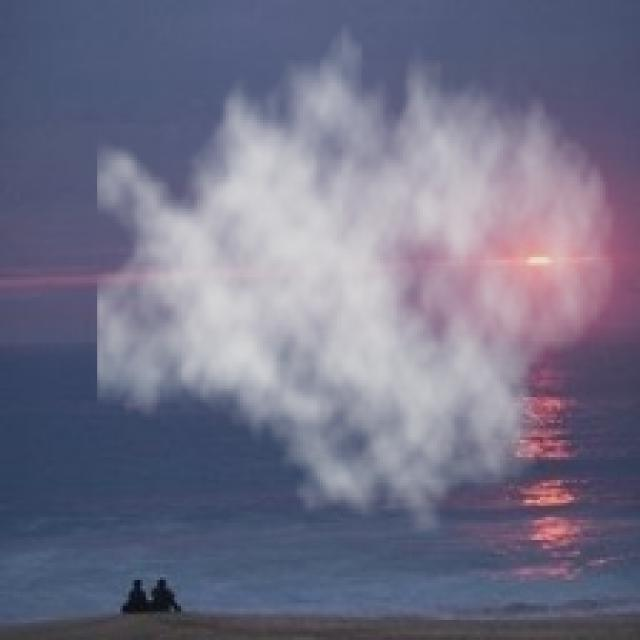smoke: (97, 0, 617, 537)
